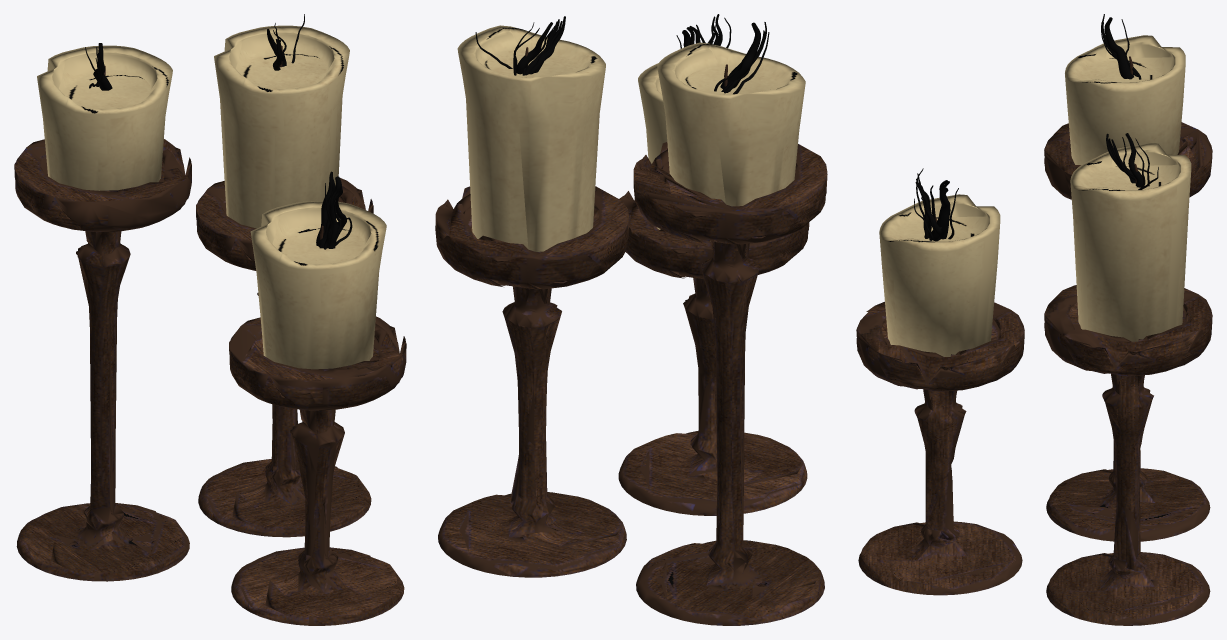
Rendered from candle 3.obj.
The picture shows the model from 3 angles, left to right: view 1: azimuth 30°, elevation 25°; view 2: azimuth 150°, elevation 25°; view 3: azimuth 270°, elevation 25°; orthographic projection. The views are drawn at different scales.
Parts seen in each view (by area): view 1: directionalLight2; view 2: directionalLight2; view 3: directionalLight2.
Boxes of the visible parts, <box> form: directionalLight2: <box>14,14,406,625</box>; directionalLight2: <box>435,14,827,625</box>; directionalLight2: <box>856,14,1212,625</box>.
Size of the model in its own units: 4.11 by 5.99 by 3.99.
Materials: 6 (3 with a texture image).
